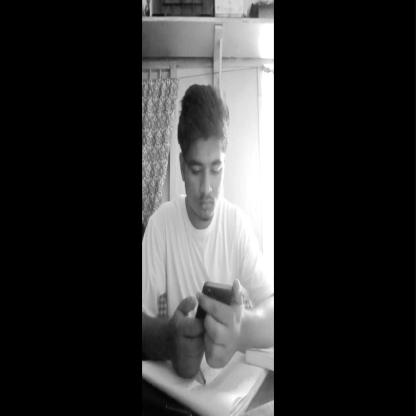Normal: (175, 83, 231, 226)
